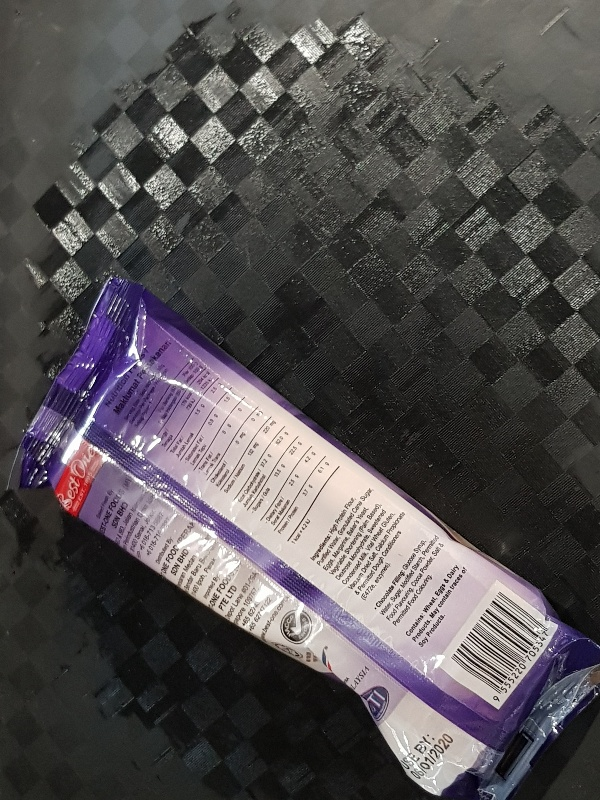Tinges Roll Chocolate: (11, 272, 592, 800)
